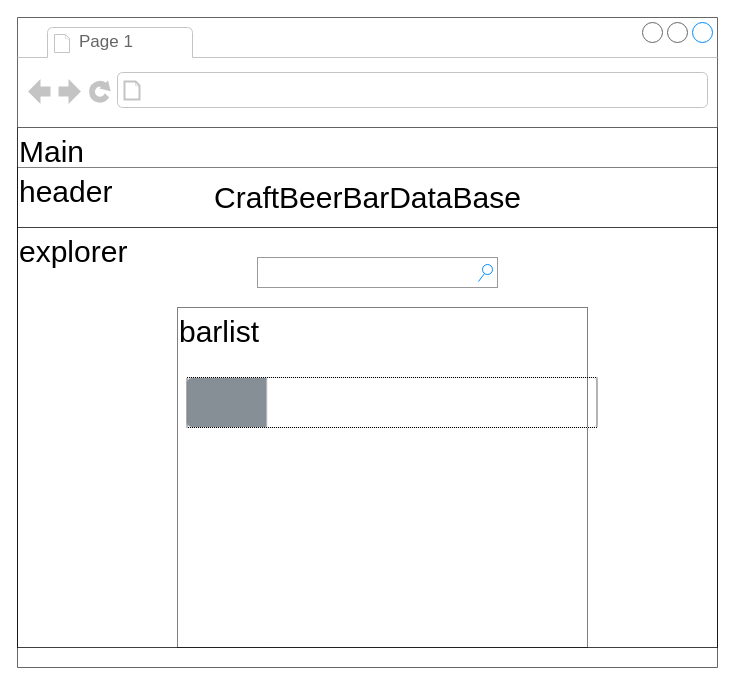
The diagram is 735 pixels wide and 685 high, and some of its shapes have lost their labels. Here are the shapes that lost their labels. From the top down, the box of each, then its label:
(146, 76, 398, 104): https://www.draw.io
(256, 256, 498, 288): Search
(186, 376, 597, 428): barcard
